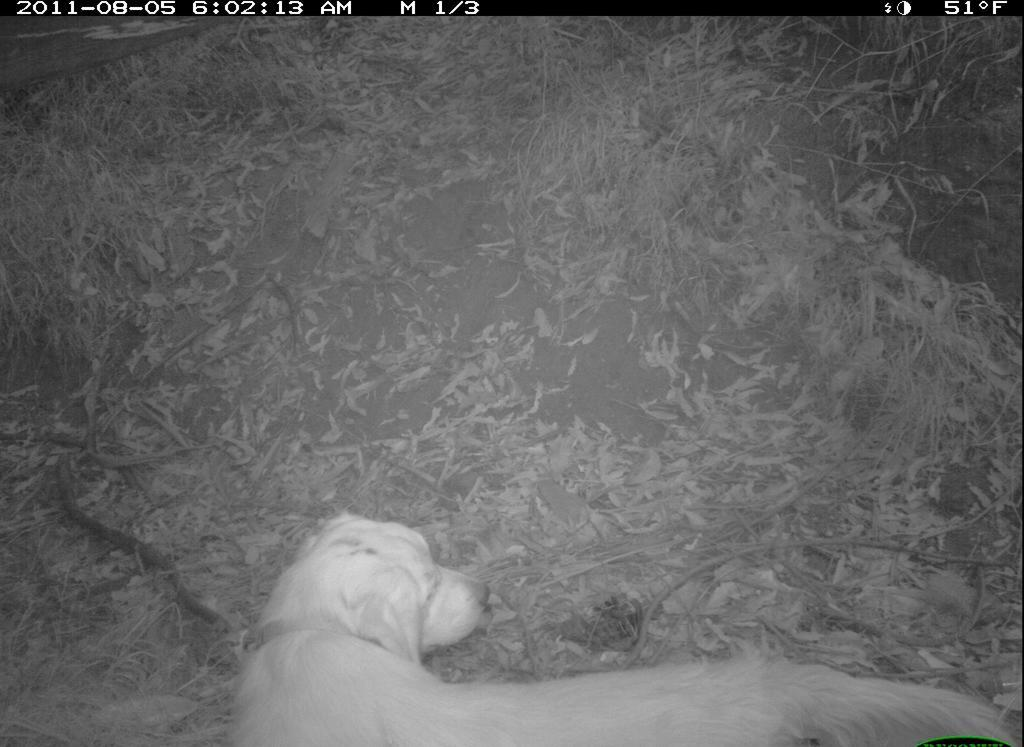dog: (222, 506, 1021, 743)
